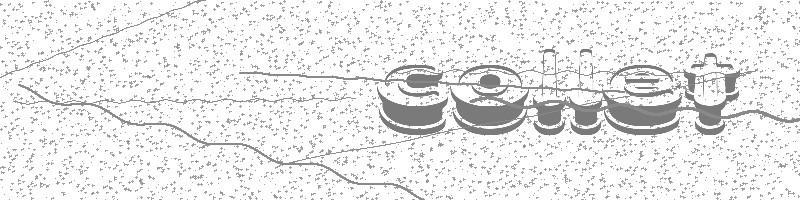c: (376, 63, 450, 136)
e: (604, 64, 681, 136)
l: (567, 47, 602, 136), (533, 47, 567, 138)
o: (449, 63, 530, 136)
t: (683, 52, 739, 136)
